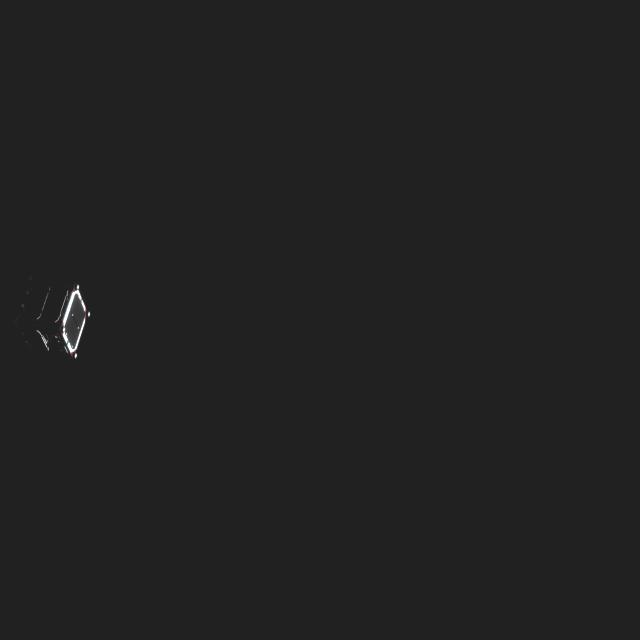medium_debris: (20, 277, 95, 361)
